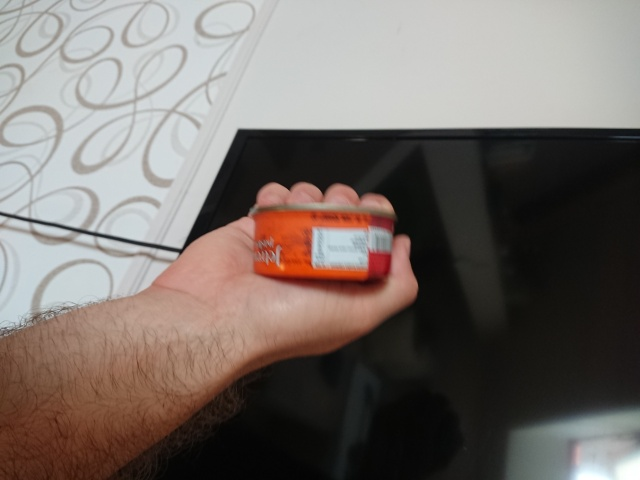Gavrilovic Pork Liver Pate 100g: (248, 202, 399, 285)
